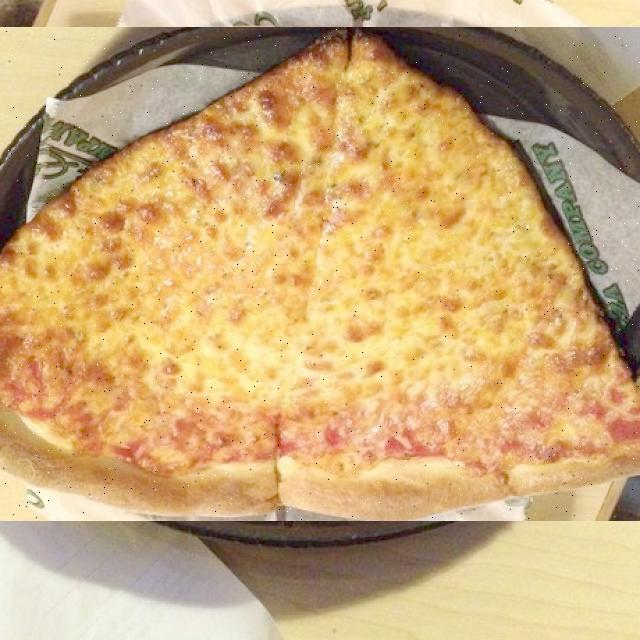Pepperoni: (0, 28, 640, 521)
